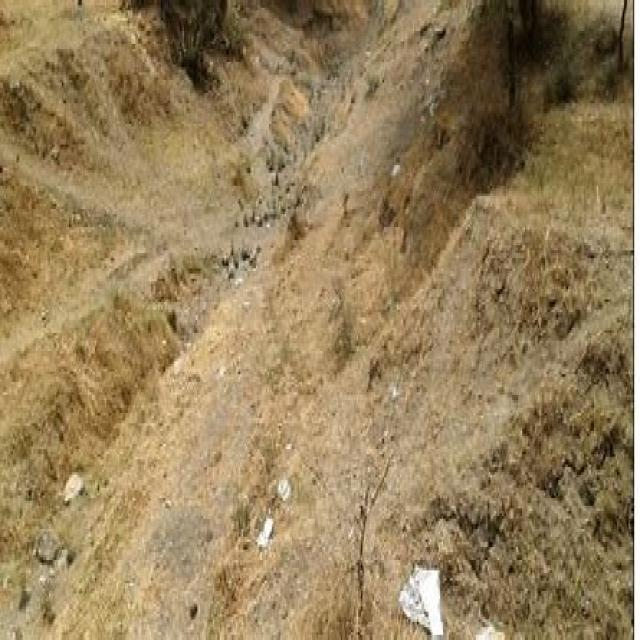Alluvial Soil: (37, 83, 212, 559), (416, 105, 550, 477)
